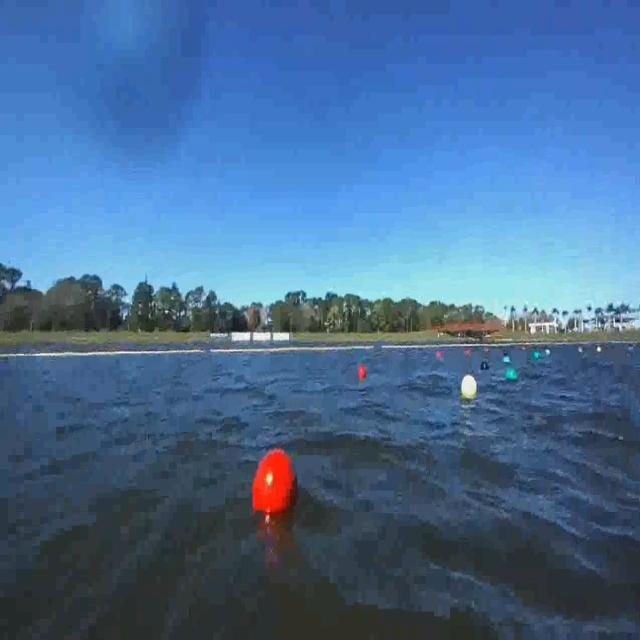black-buoy: (482, 360, 488, 370)
green-buoy: (505, 370, 517, 383)
red-buoy: (254, 449, 299, 519), (358, 364, 368, 380)
yellow-buoy: (463, 372, 479, 398)
